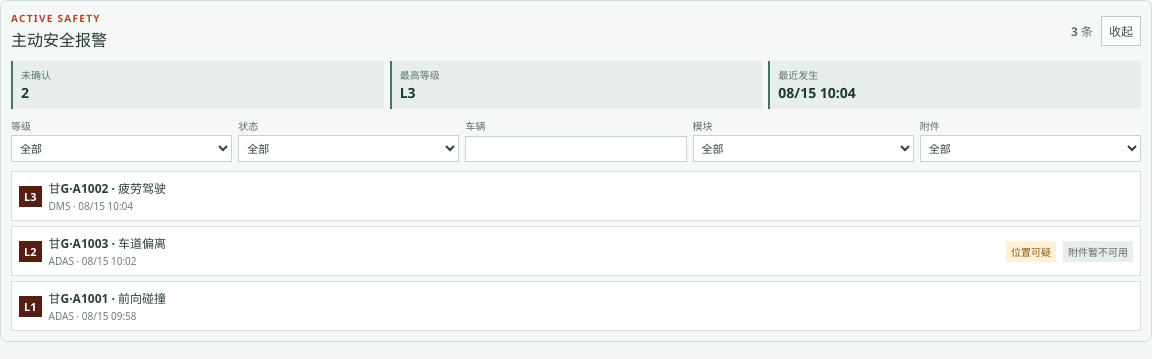
it: AlarmBoard › collapses without removing the map-adjacent header affordance
Click the button with aria-label "收起报警看板": (1121,31) [1101,16,1141,46]
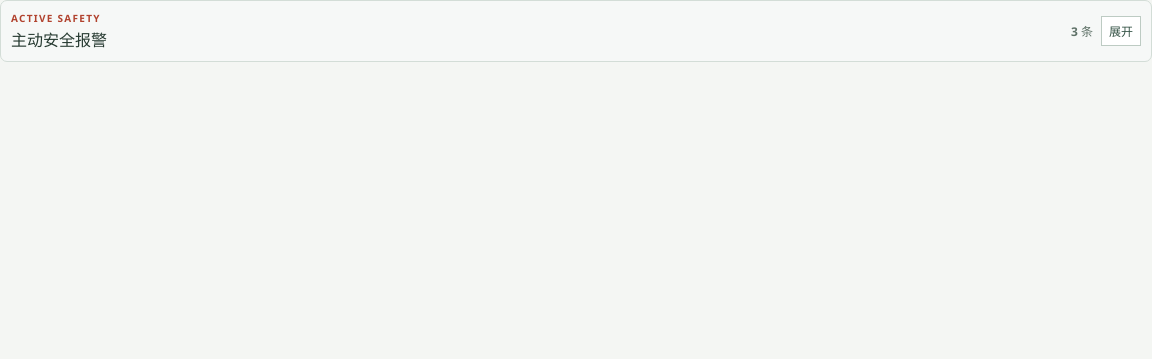
Expected: the button with aria-label "展开报警看板" is shown, [1101,16,1141,46]
